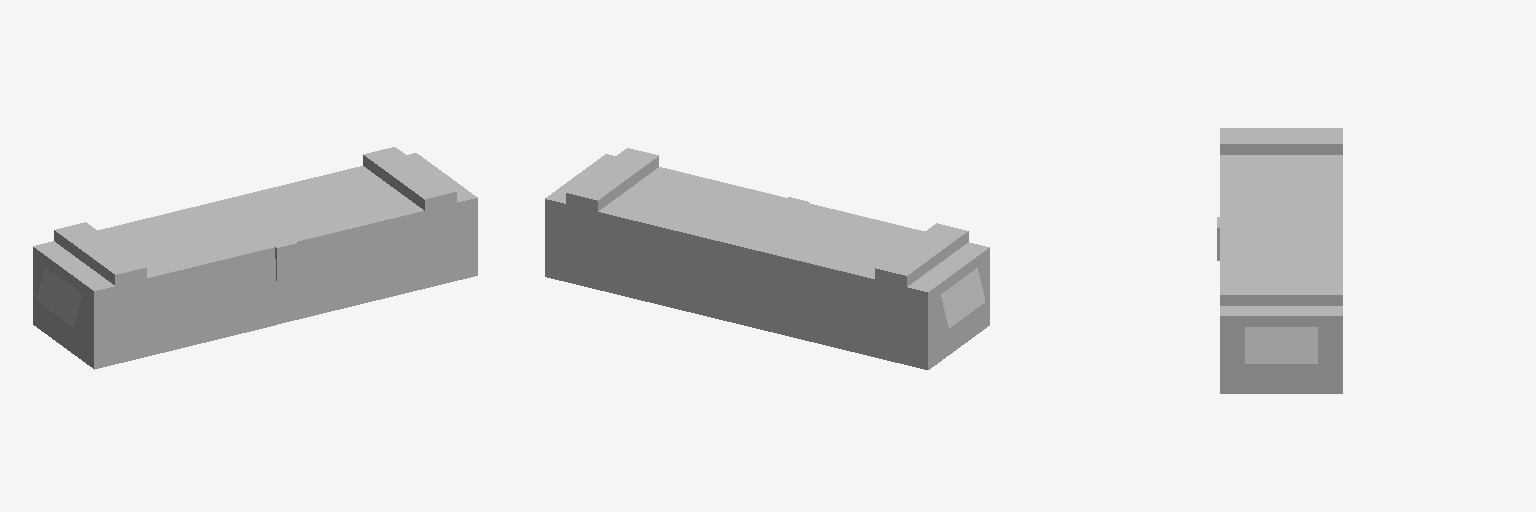
Rendered from ammocrate_rocket.obj.
3 views of the same model, side by side, from view 1: azimuth 30°, elevation 25°; view 2: azimuth 150°, elevation 25°; view 3: azimuth 270°, elevation 25° (orthographic).
Visible parts, largest first — view 1: lid, crate; view 2: crate, lid; view 3: lid, crate.
Part boxes in pixels (bbox=[...]): lid: bbox=[33, 147, 477, 301]; crate: bbox=[33, 209, 477, 369]; crate: bbox=[545, 210, 989, 369]; lid: bbox=[545, 148, 989, 302]; lid: bbox=[1217, 128, 1342, 326]; crate: bbox=[1220, 327, 1342, 393].
Size of the model in its own units: 2.35 by 0.5 by 0.6406.